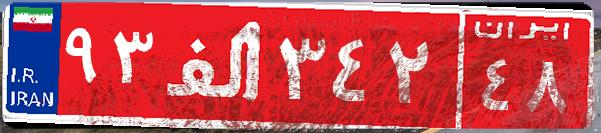2: (385, 28, 445, 110)
3: (273, 28, 330, 110), (110, 28, 158, 105)
4: (330, 28, 385, 110), (475, 38, 525, 113)
8: (525, 38, 570, 115)
9: (57, 26, 110, 107)
الف: (158, 15, 273, 115)
